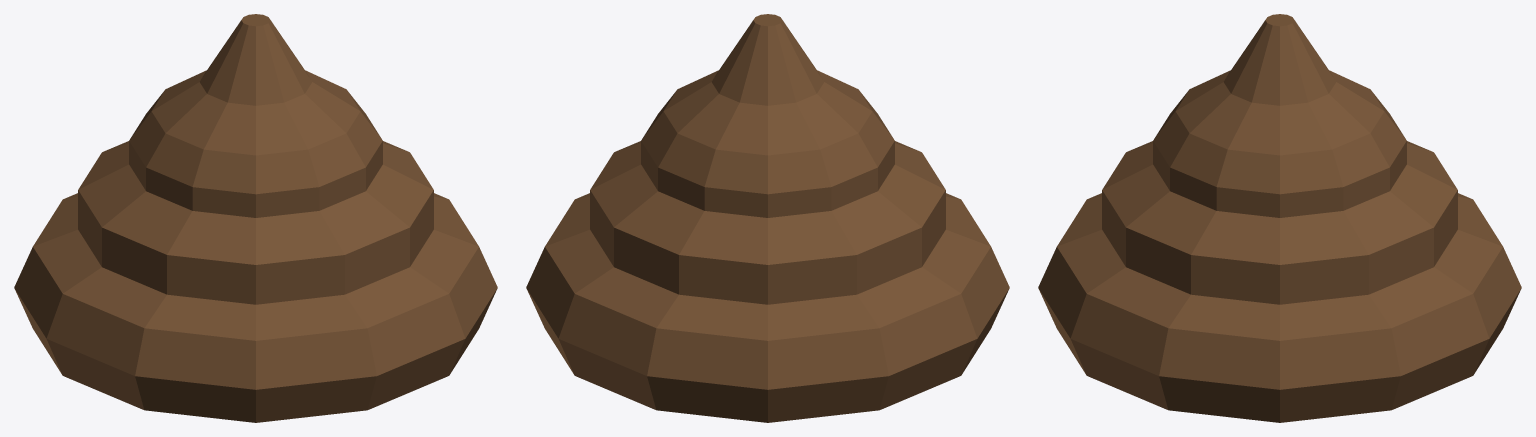
Rendered from Poop_Squares_V1.fbx.
3 renders of one model, left to right at view 1: azimuth 30°, elevation 25°; view 2: azimuth 150°, elevation 25°; view 3: azimuth 270°, elevation 25°, orthographic.
Parts seen in each view (by area): view 1: Poop; view 2: Poop; view 3: Poop.
Part boxes in pixels (x1,y1,x2,y2): Poop: (14, 14, 497, 422); Poop: (526, 14, 1009, 422); Poop: (1038, 14, 1521, 422).
Size of the model in its own units: 272 by 202 by 272.
